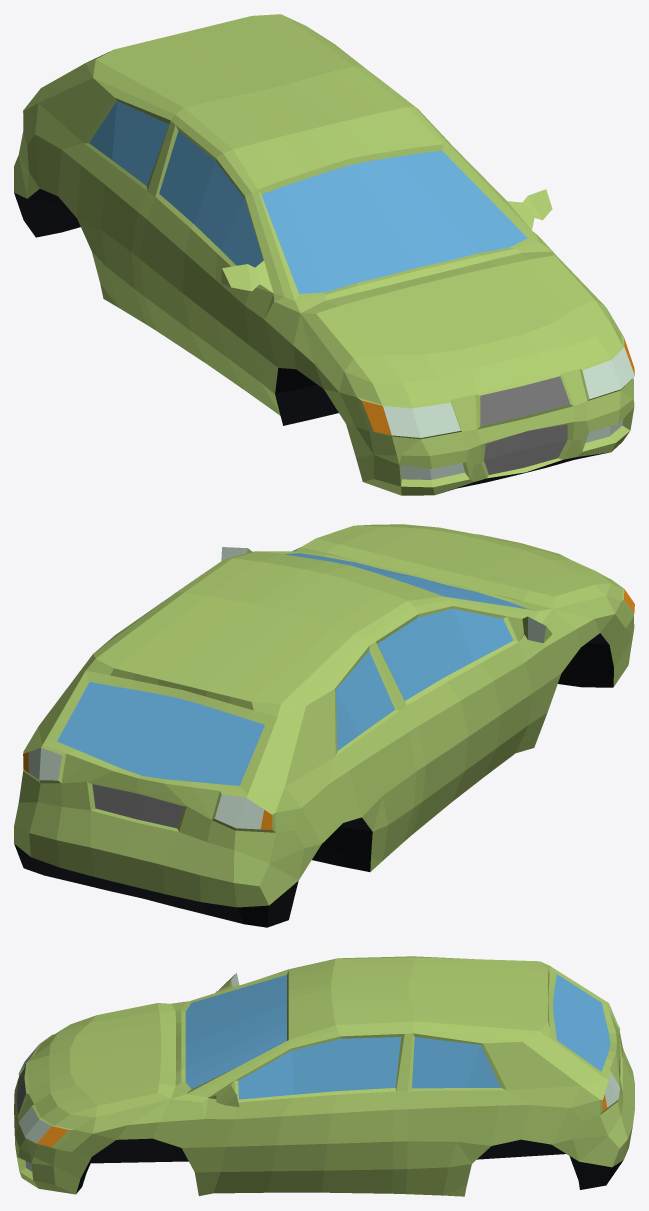
The model's file is CommonCar.fbx.
3 renders of one model, top to bottom at view 1: azimuth 30°, elevation 25°; view 2: azimuth 150°, elevation 25°; view 3: azimuth 270°, elevation 25°, orthographic. The views are drawn at different scales.
Visible parts, largest first — view 1: Corpse.001, CommonCar; view 2: Corpse.001, CommonCar; view 3: Corpse.001, CommonCar.
Boxes of the visible parts, x1,y1,x2,y2 form: Corpse.001: (14, 14, 634, 495); CommonCar: (14, 101, 634, 492); Corpse.001: (14, 524, 634, 907); CommonCar: (14, 547, 634, 927); Corpse.001: (14, 956, 634, 1196); CommonCar: (16, 973, 623, 1193).
Size of the model in its own units: 1.8 by 1.12 by 3.86.
